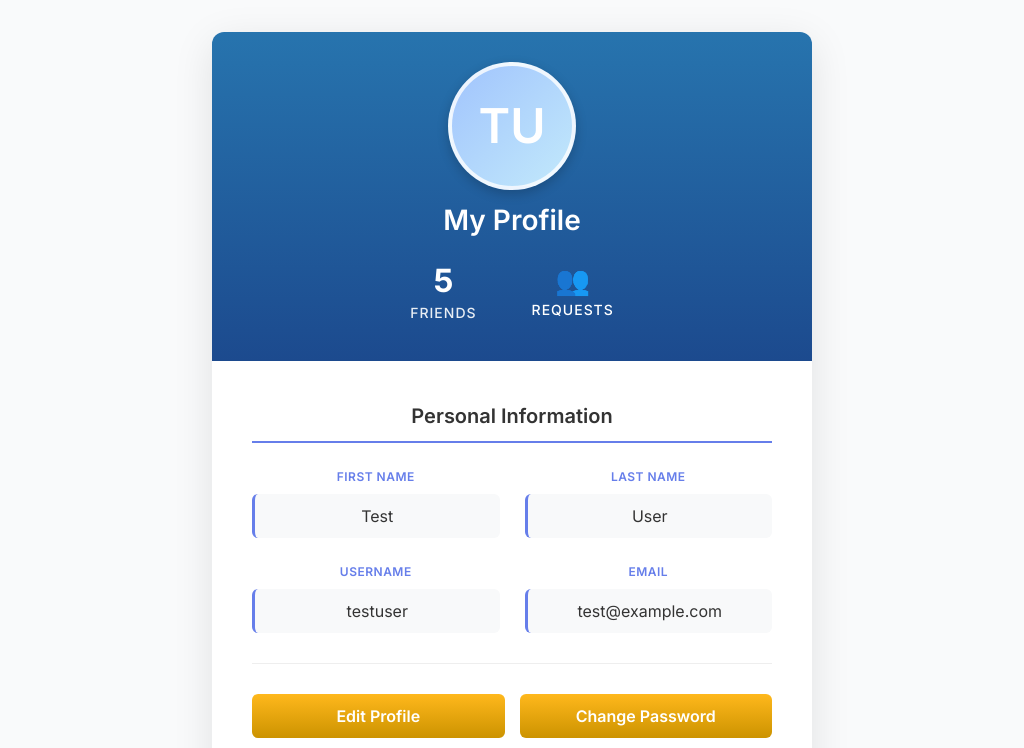
Profile Component › Friends Modal › opens and displays friends for own profile
Click the text "Friends": {"x": 443, "y": 312} [410,304,476,321]
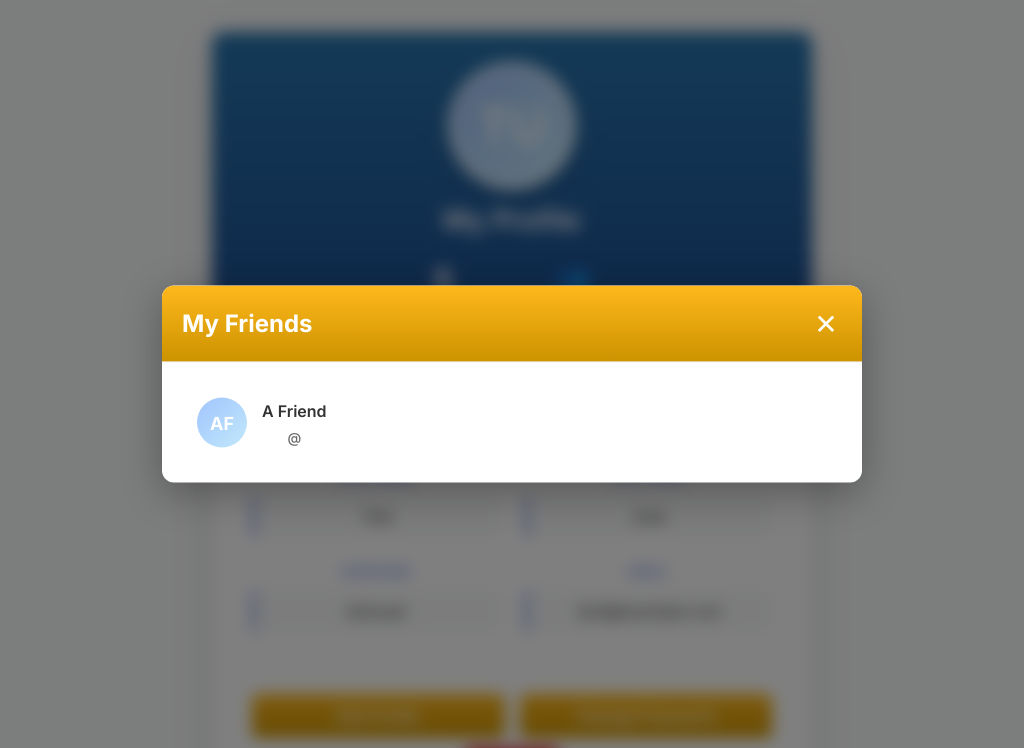
Check: the heading "My Friends" is shown, box [182,306,312,342]
Check: the text "A Friend" is shown, box [262,398,327,422]
